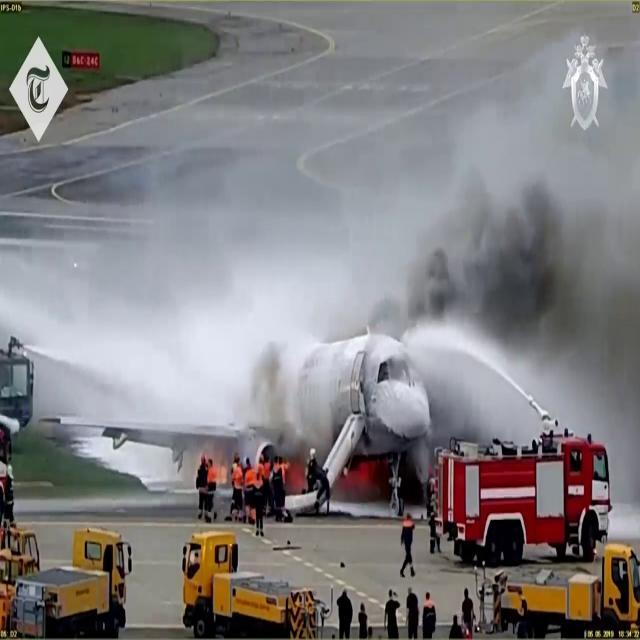Smoke: (237, 111, 640, 455)
